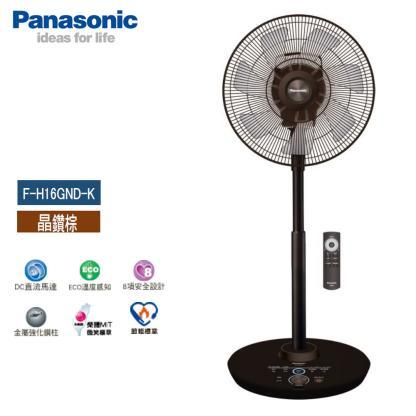fan: (198, 12, 400, 170)
